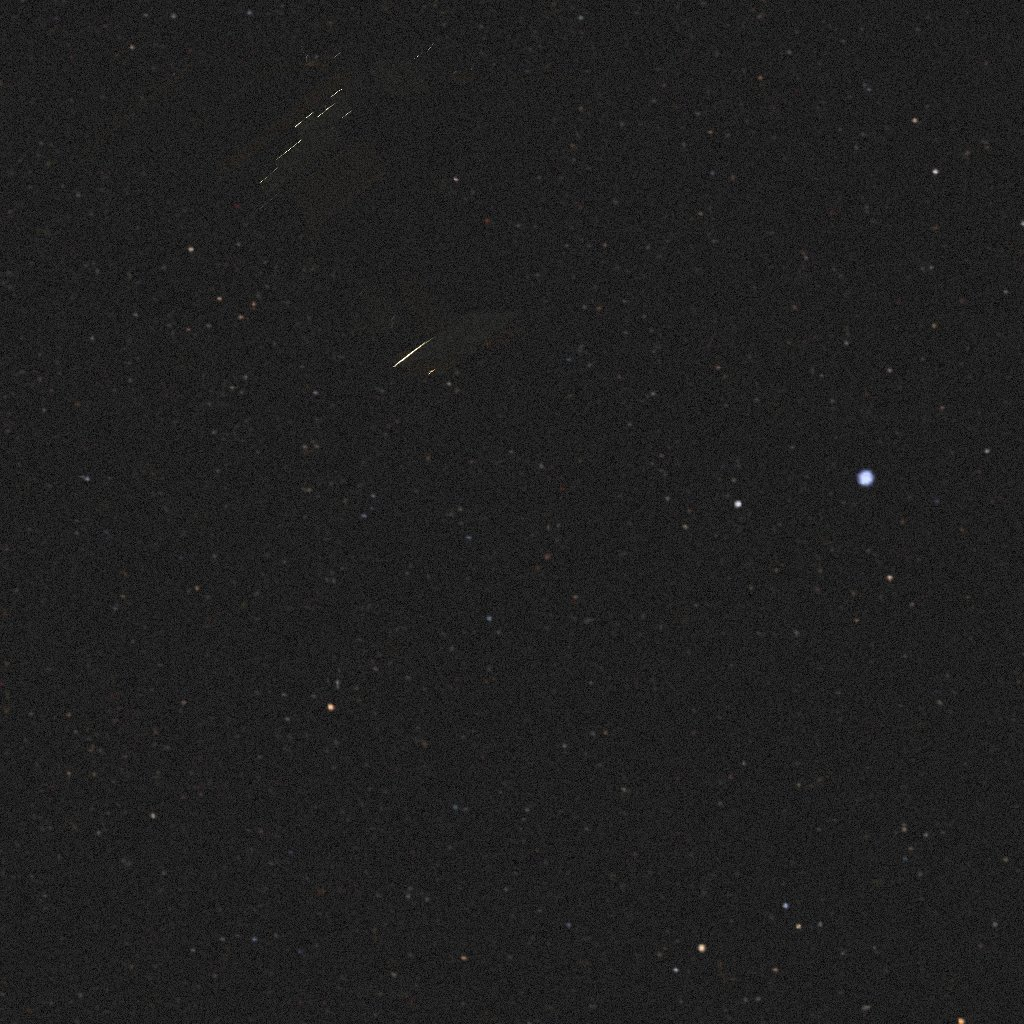soho: (186, 30, 544, 416)
